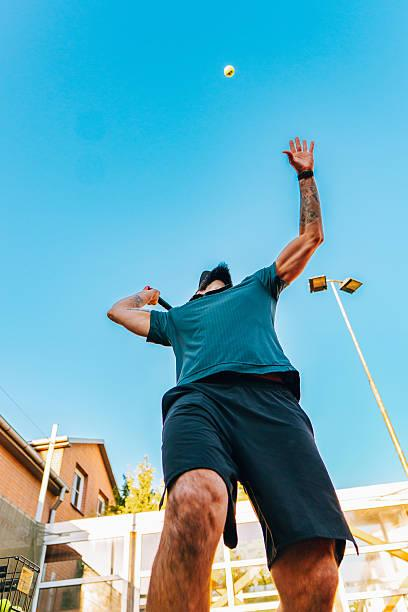ball_tennis: (225, 67, 236, 77)
